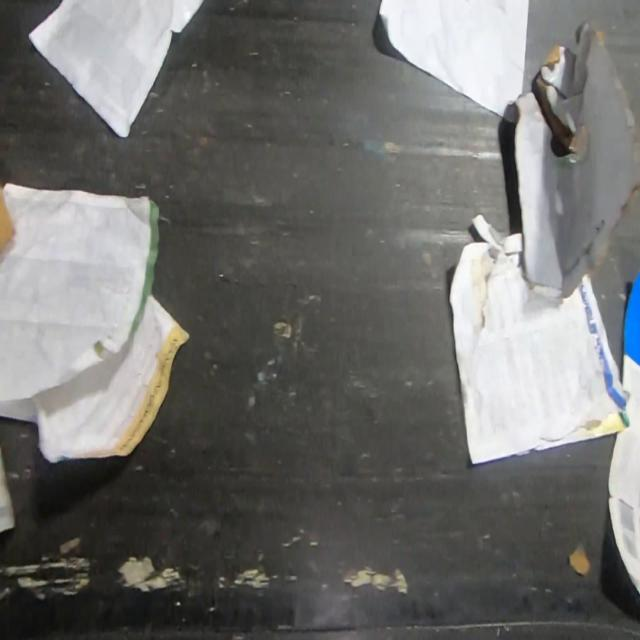cardboard: (511, 17, 640, 309), (0, 186, 17, 259)
